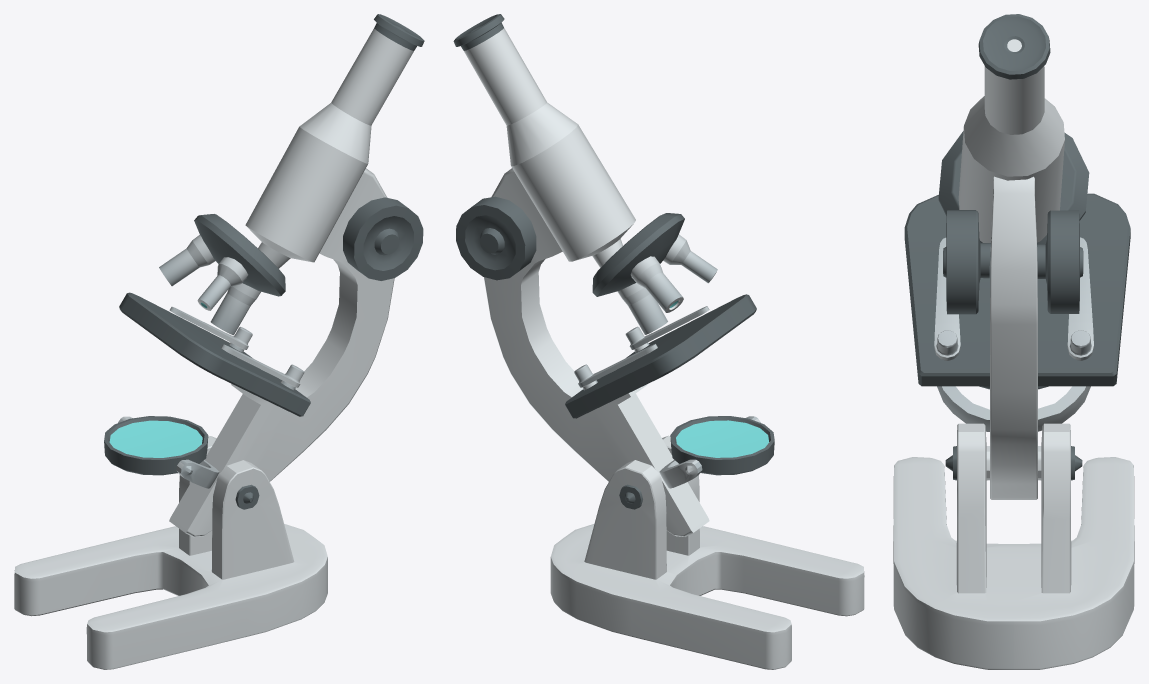
File: Microscope.fbx
The picture shows the model from 3 angles, left to right: view 1: azimuth 30°, elevation 25°; view 2: azimuth 150°, elevation 25°; view 3: azimuth 270°, elevation 25°; orthographic projection. The views are drawn at different scales.
Visible parts, largest first — view 1: Microscope1:polySurface14; view 2: Microscope1:polySurface14; view 3: Microscope1:polySurface14.
Part boxes in pixels (bbox=[...]): Microscope1:polySurface14: bbox=[14, 14, 424, 669]; Microscope1:polySurface14: bbox=[453, 14, 864, 669]; Microscope1:polySurface14: bbox=[893, 14, 1134, 669].
Size of the model in its own units: 0.3497 by 0.4923 by 0.1538.
